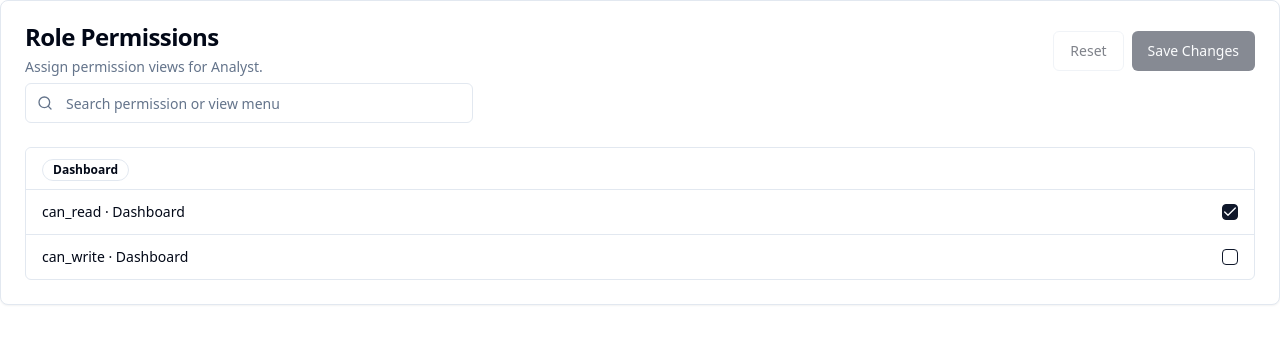
RolePermissionsPage › prevents saving when no permission remains selected
Click the checkbox named "can_read Dashboard".
click(1230, 212)  # box [1222, 204, 1238, 220]
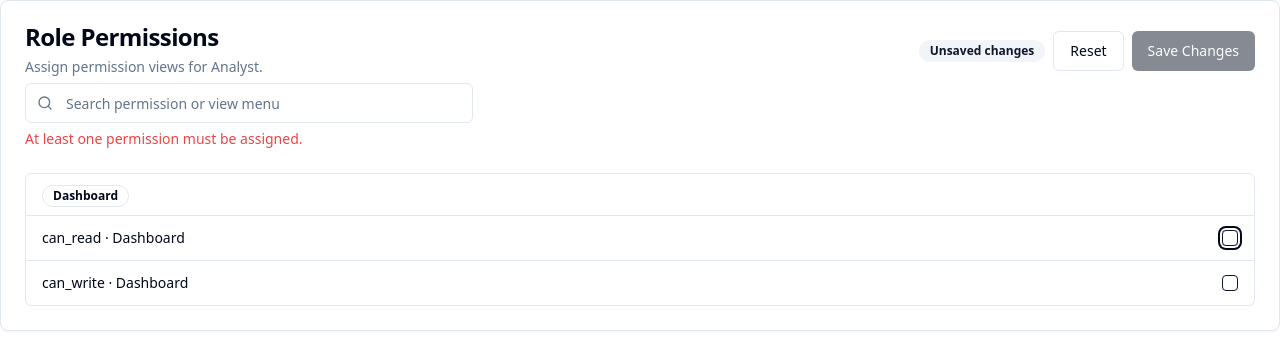
Check: the button "Save Changes" is disabled, box [1132, 31, 1255, 71]
Check: the text "At least one permission must be assigned." is shown, box [25, 129, 302, 148]
